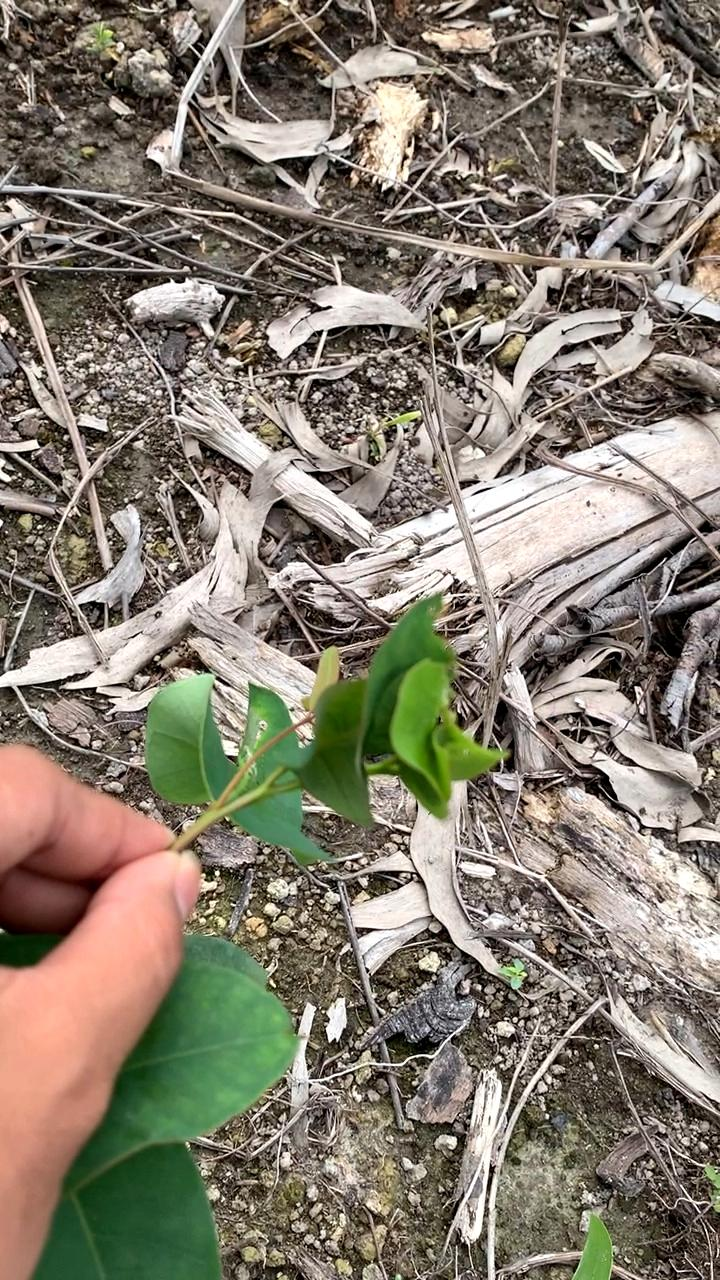Leaf Roller - Leaf: (305, 591, 503, 839)
